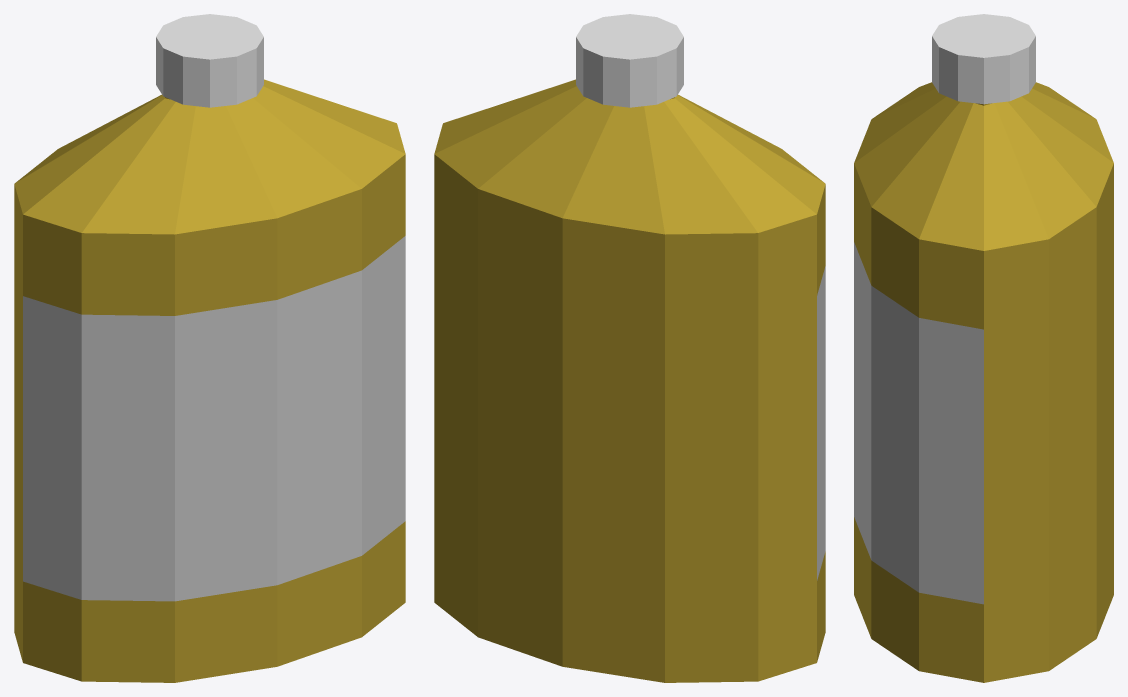
File: Bottle 2.fbx
3 renders of one model, left to right at view 1: azimuth 30°, elevation 25°; view 2: azimuth 150°, elevation 25°; view 3: azimuth 270°, elevation 25°, orthographic. The views are drawn at different scales.
Parts seen in each view (by area): view 1: Bottle 2, Lid; view 2: Bottle 2, Lid; view 3: Bottle 2, Lid.
Boxes of the visible parts, x1,y1,x2,y2 form: Bottle 2: (14,79,405,682); Lid: (156,14,263,107); Bottle 2: (434,79,825,682); Lid: (576,14,683,107); Bottle 2: (854,82,1113,682); Lid: (932,14,1035,104).
Size of the model in its own units: 0.96 by 1.42 by 0.6.
